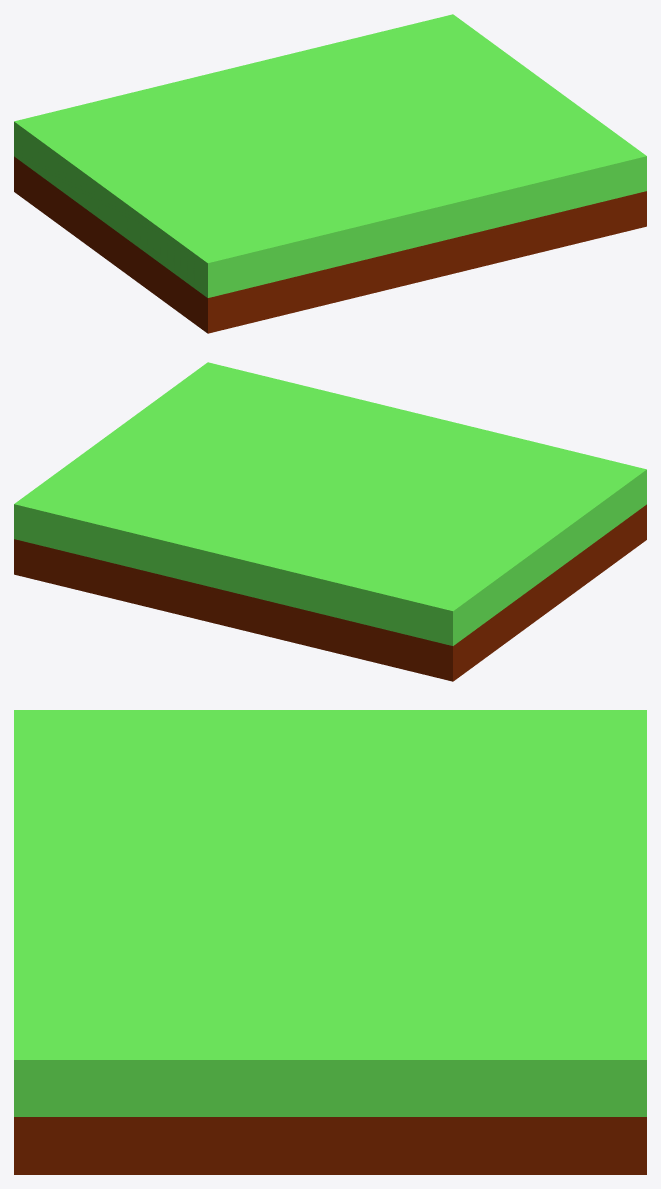
Rendered from escenarioTestderecha2.fbx.
3 renders of one model, top to bottom at view 1: azimuth 30°, elevation 25°; view 2: azimuth 150°, elevation 25°; view 3: azimuth 270°, elevation 25°, orthographic. The views are drawn at different scales.
Visible parts, largest first — view 1: Cube.016; view 2: Cube.016; view 3: Cube.016.
Part boxes in pixels (x1=…): Cube.016: x1=14, y1=14, x2=646, y2=333; Cube.016: x1=14, y1=362, x2=646, y2=681; Cube.016: x1=14, y1=710, x2=646, y2=1174.
Size of the model in its own units: 1590 by 244 by 1215.
